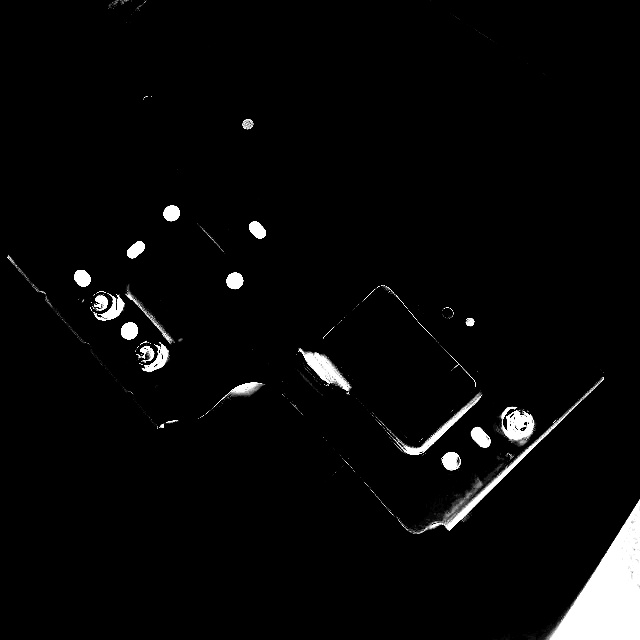dog: (498, 404, 535, 441), (87, 288, 123, 323), (133, 338, 169, 373)
